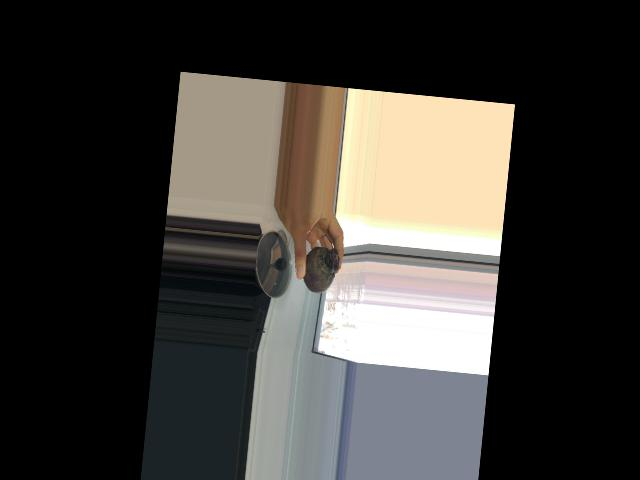beet: (301, 232, 341, 295)
